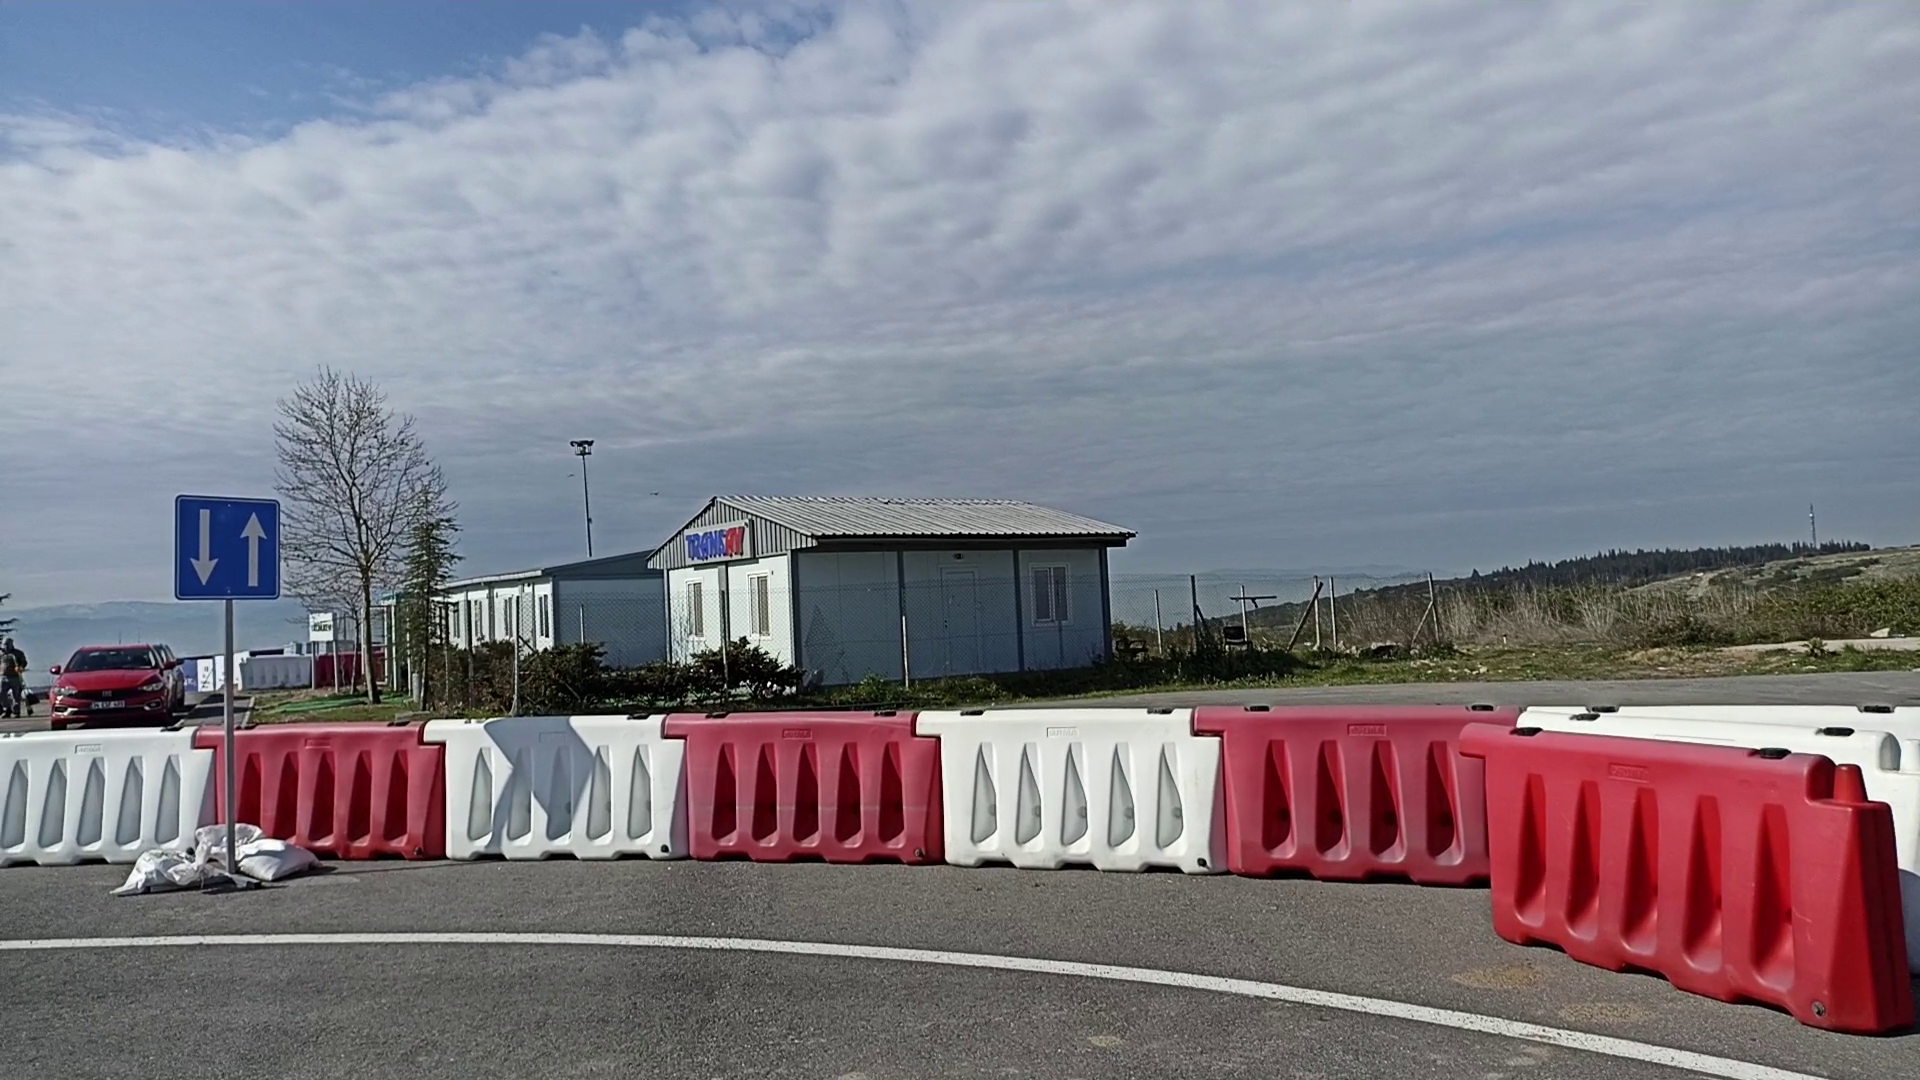oneway: (171, 492, 284, 603)
